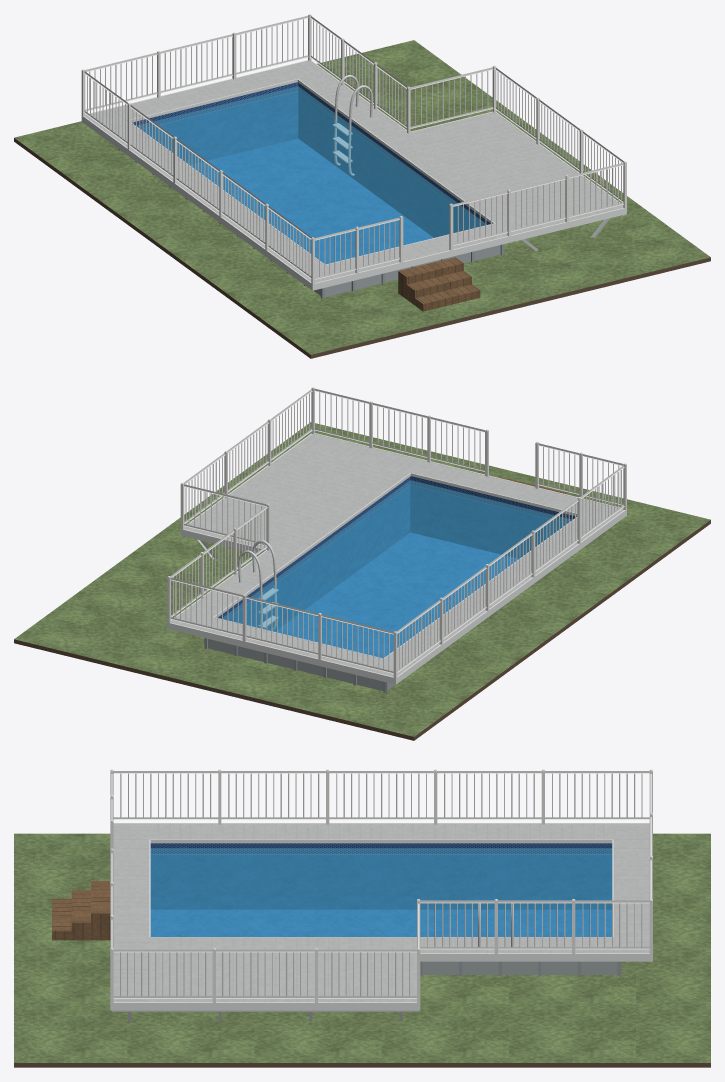
File: kayak-pool-12x24-gray-l-rec-fence.22d0d35ecf.glb
The picture shows the model from 3 angles, top to bottom: view 1: azimuth 30°, elevation 25°; view 2: azimuth 150°, elevation 25°; view 3: azimuth 270°, elevation 25°; orthographic projection. The views are drawn at different scales.
Parts seen in each view (by area): view 1: ground, water, deck, fence, liner_wall, liner_floor, fascia, soil, steps, wall, steel; view 2: ground, water, deck, fence, liner_wall, liner_floor, fascia, soil, wall, steel; view 3: ground, water, deck, liner_wall, fence, liner_floor, fascia, soil, steps, wall, stud.
Boxes of the visible parts, x1=… form: ground: x1=14, y1=40, x2=710, y2=354; water: x1=137, y1=86, x2=487, y2=264; deck: x1=84, y1=60, x2=623, y2=282; fence: x1=81, y1=14, x2=626, y2=284; liner_wall: x1=132, y1=82, x2=490, y2=237; liner_floor: x1=190, y1=138, x2=433, y2=264; fascia: x1=81, y1=60, x2=626, y2=290; soil: x1=14, y1=138, x2=710, y2=358; steps: x1=398, y1=257, x2=480, y2=311; wall: x1=314, y1=245, x2=500, y2=297; steel: x1=332, y1=75, x2=372, y2=175; ground: x1=14, y1=422, x2=710, y2=736; water: x1=221, y1=480, x2=571, y2=658; deck: x1=171, y1=434, x2=623, y2=676; fence: x1=167, y1=387, x2=626, y2=678; liner_wall: x1=218, y1=476, x2=576, y2=631; liner_floor: x1=275, y1=532, x2=518, y2=658; fascia: x1=167, y1=433, x2=626, y2=684; soil: x1=14, y1=520, x2=710, y2=740; wall: x1=208, y1=639, x2=394, y2=690; steel: x1=238, y1=540, x2=278, y2=630; ground: x1=14, y1=833, x2=710, y2=1062; water: x1=150, y1=848, x2=612, y2=936; deck: x1=113, y1=824, x2=649, y2=1002; liner_wall: x1=150, y1=843, x2=612, y2=909; fence: x1=110, y1=769, x2=652, y2=1002; liner_floor: x1=150, y1=909, x2=611, y2=936; fascia: x1=110, y1=823, x2=652, y2=1010; soil: x1=14, y1=1063, x2=710, y2=1067; steps: x1=52, y1=881, x2=110, y2=940; wall: x1=422, y1=961, x2=617, y2=974; stud: x1=112, y1=1010, x2=418, y2=1021.
Bounding box in the file's own units: 8.53 × 2.15 × 10.97.
13 materials, 5 textured.
